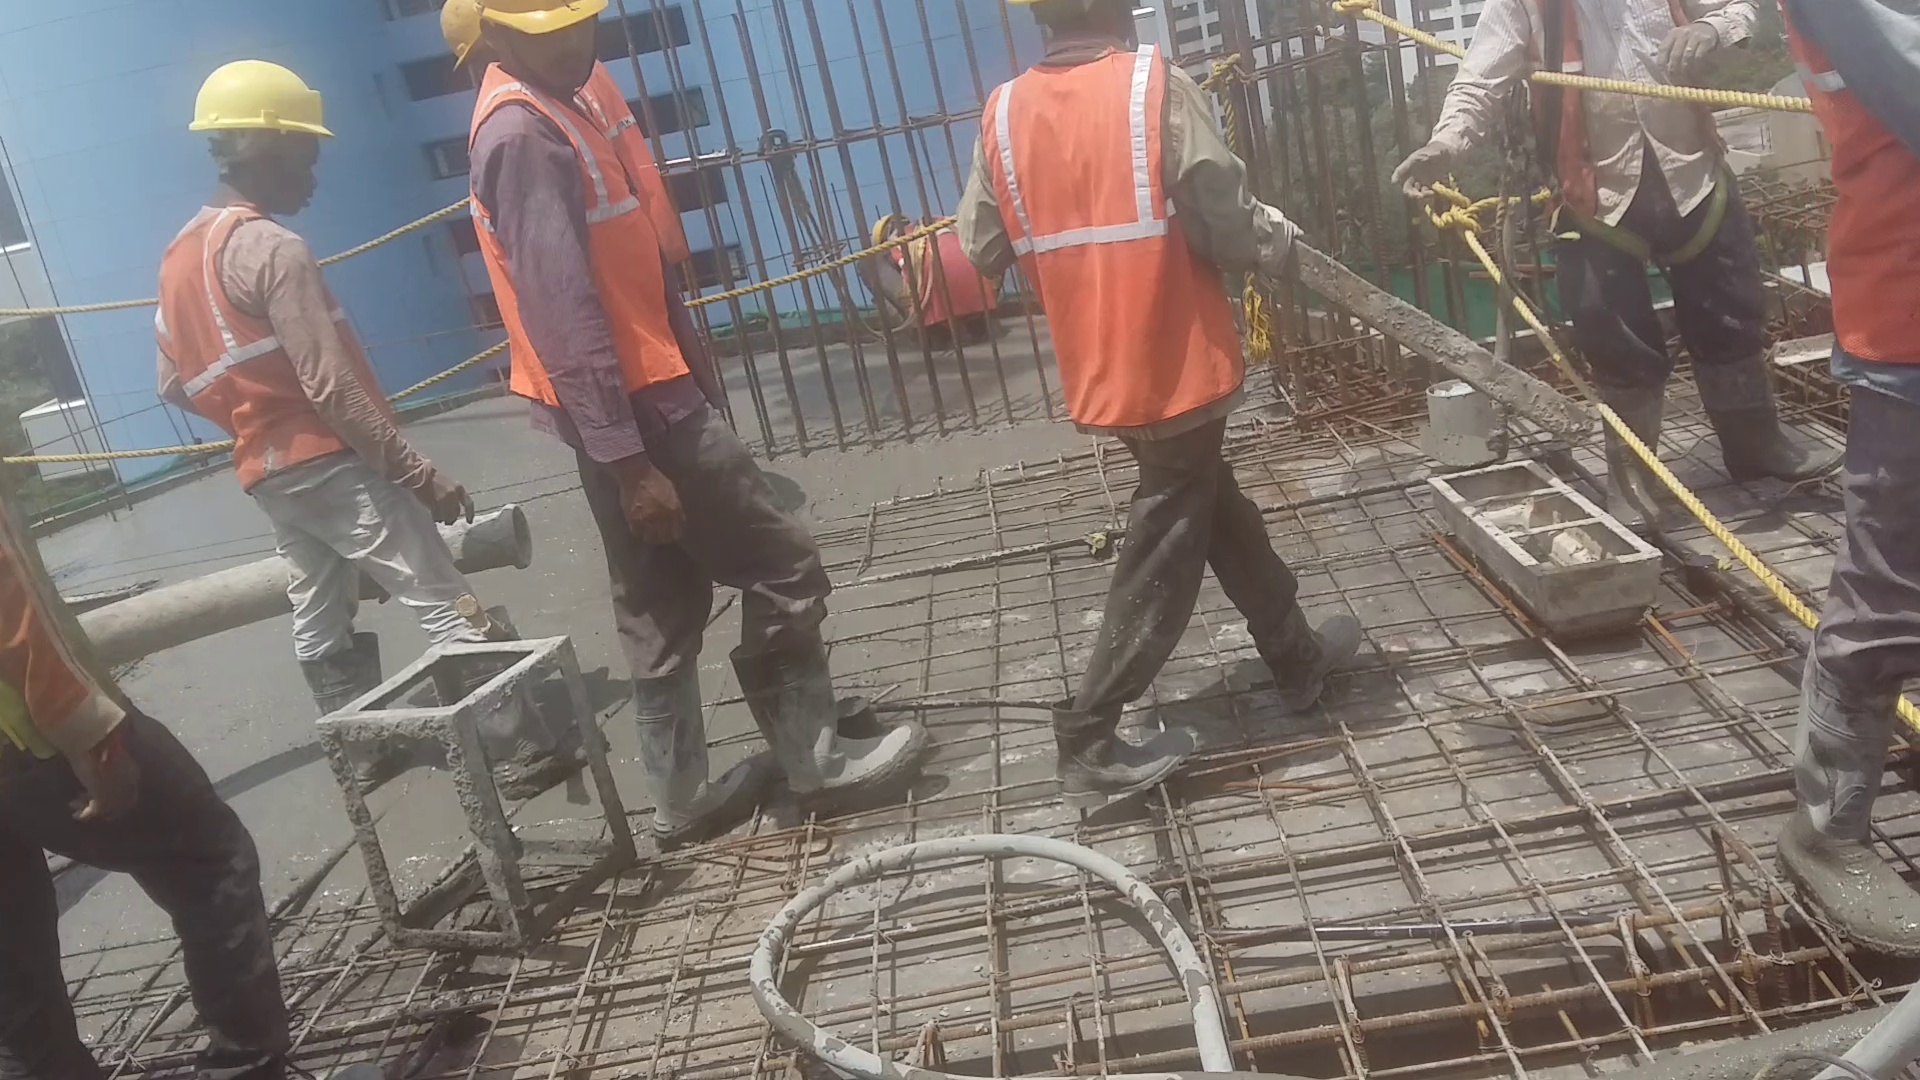SAFE: (169, 54, 360, 469), (465, 5, 651, 423)
